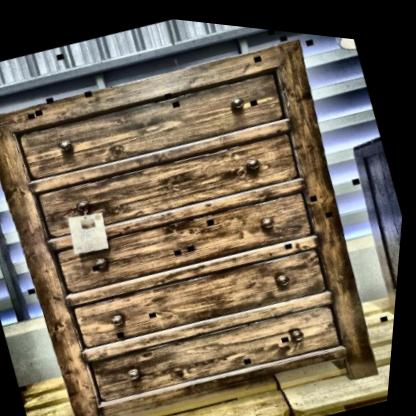Sideboard: (0, 6, 403, 416)
